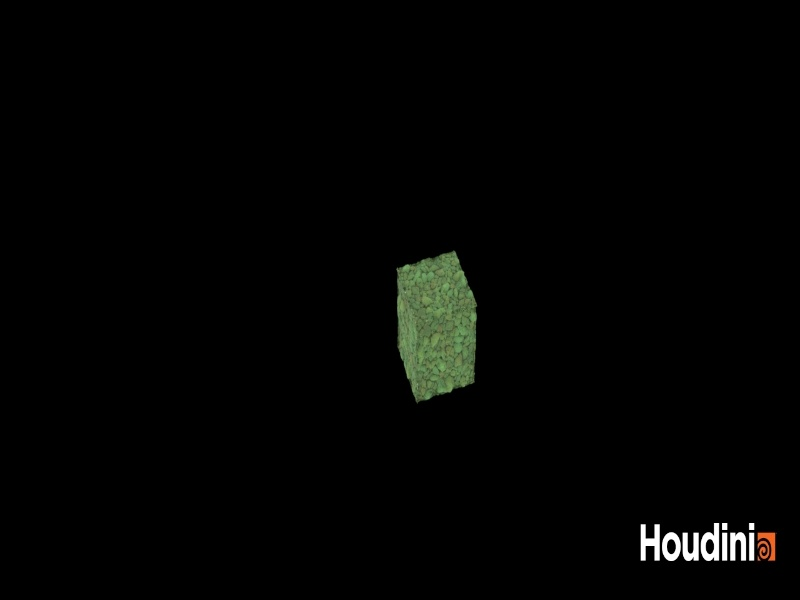waste: (387, 233, 490, 417)
